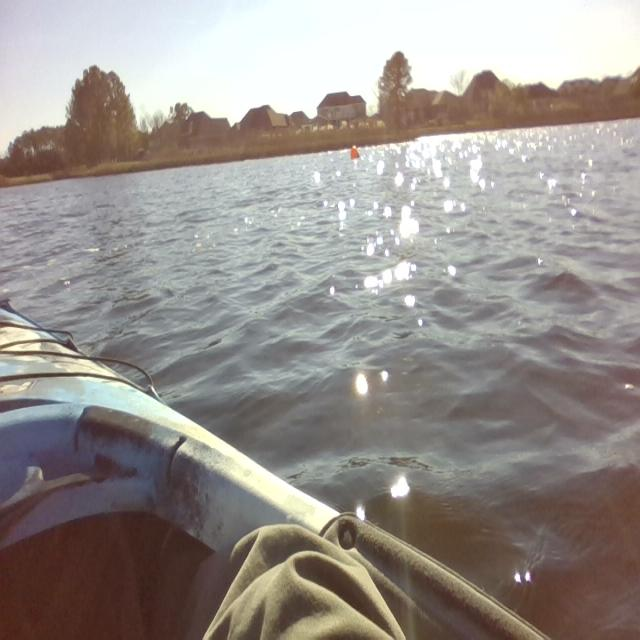Buoy: (344, 139, 367, 168)
